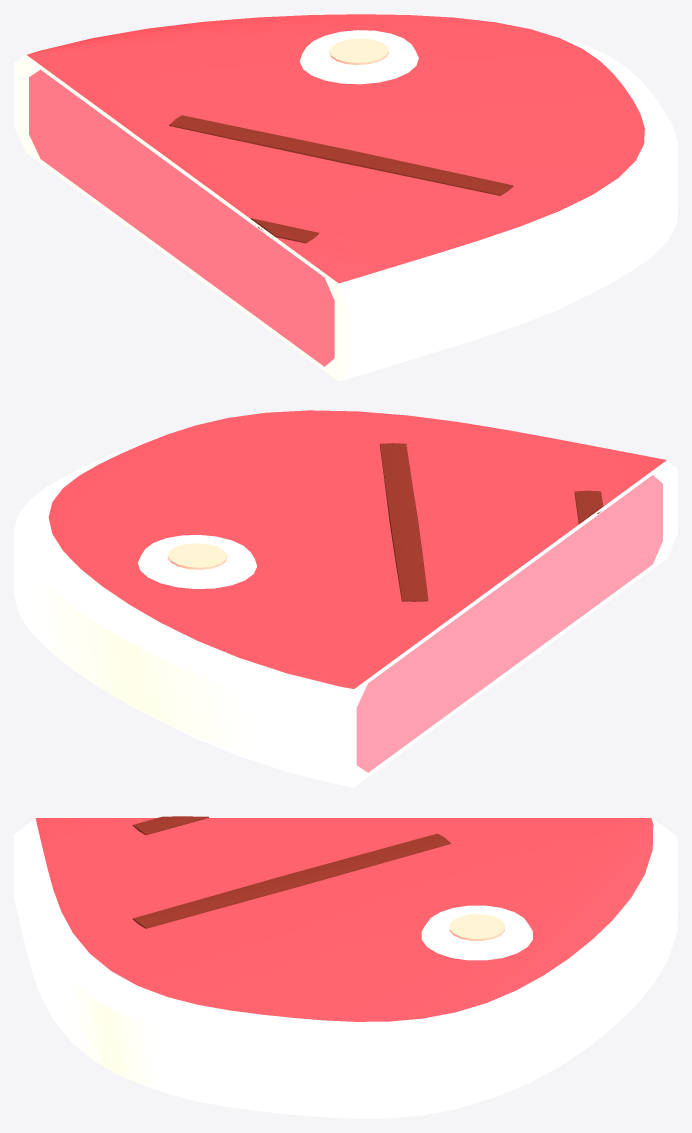
The picture shows the model from 3 angles, top to bottom: view 1: azimuth 30°, elevation 25°; view 2: azimuth 150°, elevation 25°; view 3: azimuth 270°, elevation 25°; orthographic projection.
Parts seen in each view (by area): view 1: Steak-right; view 2: Steak-right; view 3: Steak-right.
Part boxes in pixels (x1=…): Steak-right: x1=14, y1=14, x2=677, y2=381; Steak-right: x1=14, y1=410, x2=677, y2=787; Steak-right: x1=14, y1=816, x2=677, y2=1118.
Size of the model in its own units: 0.0302 by 0.00681 by 0.0387.
